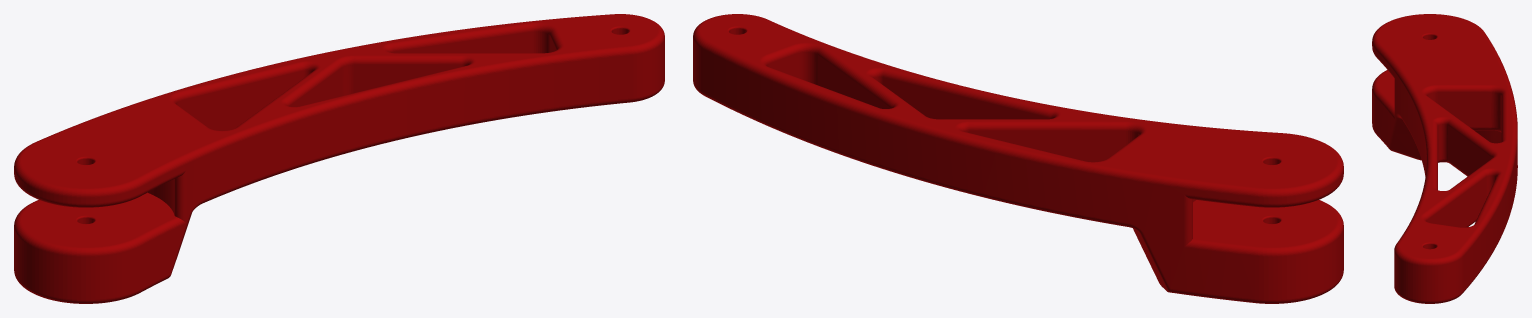
File: main_arm.dae
3 views of the same model, side by side, from view 1: azimuth 30°, elevation 25°; view 2: azimuth 150°, elevation 25°; view 3: azimuth 270°, elevation 25° (orthographic). The views are drawn at different scales.
Visible parts, largest first — view 1: Main Arm; view 2: Main Arm; view 3: Main Arm.
Boxes of the visible parts, x1,y1,x2,y2 form: Main Arm: (14,14,664,303); Main Arm: (693,14,1343,303); Main Arm: (1372,14,1517,303).
Size of the model in its own units: 0.214 by 0.053 by 0.037.
